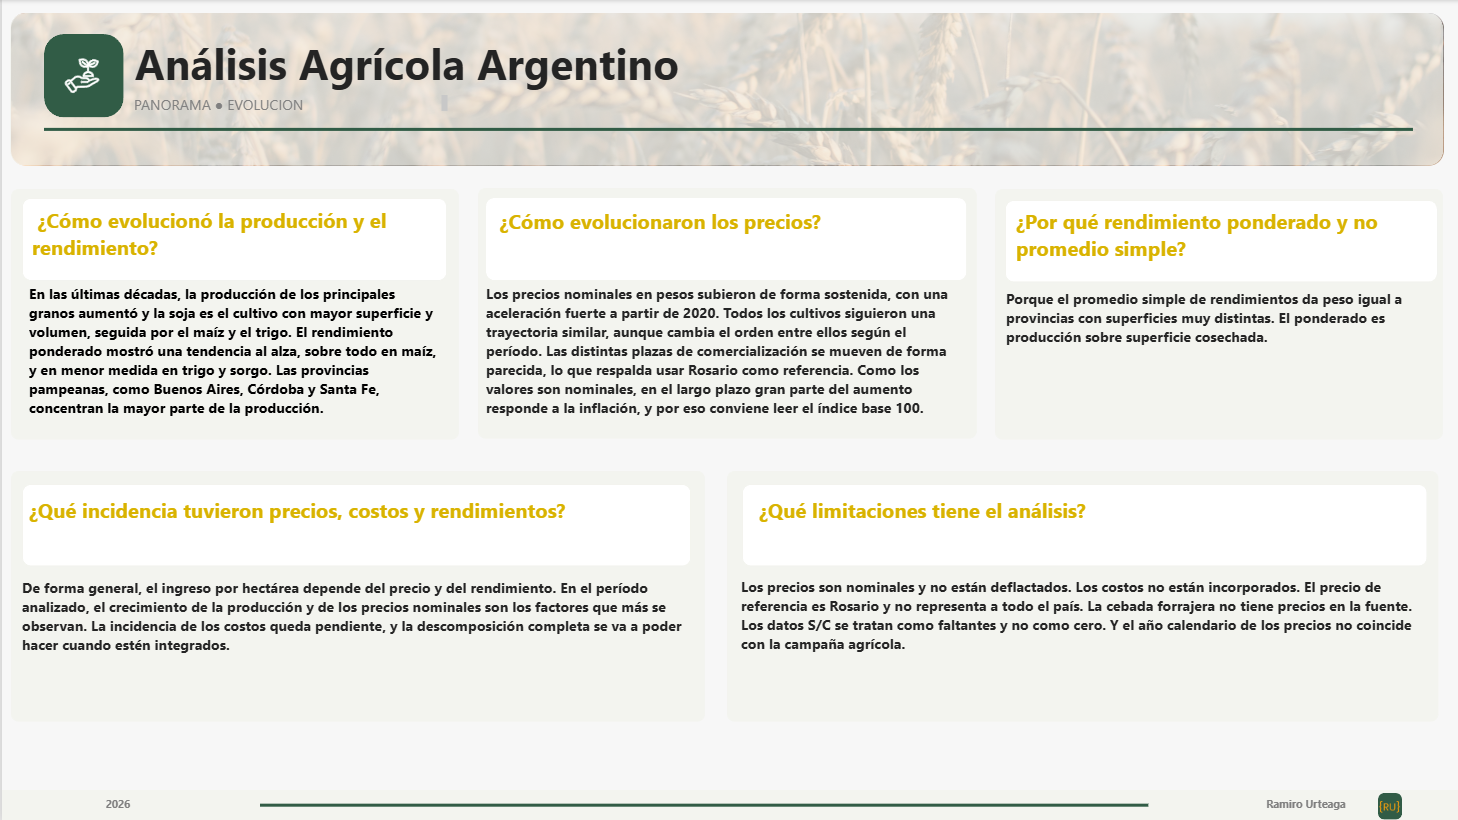

Layout of this report page (visuals, bound fields, positions):
{"tool":"powerbi","page":{"name":"Presentacion","canvas":[1920,1080],"ordinal":2},"visuals":[{"type":"shape","box":[0,1040,1920,40],"z":0},{"type":"shape","box":[340,1040,1170,40],"z":1000},{"type":"textbox","box":[1535.6,1050,363.3,30],"z":2000},{"type":"textbox","box":[0,1050,305.6,30],"z":3000},{"type":"shape","box":[1812.5,1045,31.7,35],"z":4000},{"type":"image","box":[1811.3,1045.3,33.3,33.3],"z":5000},{"type":"image","box":[11.6,17.2,1886.8,201.2],"z":6000},{"type":"shape","box":[11.1,17,1887.8,201.1],"z":7000},{"type":"shape","box":[55,45,105,110],"z":8000},{"type":"image","box":[80.6,73.9,50,52.2],"z":9000},{"type":"textbox","box":[175,45,823.3,80],"z":10000},{"type":"shape","box":[55,155,1803.3,30],"z":11000},{"type":"textbox","box":[174.3,125.7,412.9,22.9],"z":12000},{"type":"shape","box":[11.7,248.3,590,330],"z":13000},{"type":"shape","box":[627.3,248.2,656.7,330],"z":14000},{"type":"shape","box":[1308.3,248.3,590,330],"z":15000},{"type":"shape","box":[11.4,620,914.3,330],"z":16000},{"type":"shape","box":[954.3,620,937.1,330],"z":17000},{"type":"shape","box":[26.4,260.9,560,109.1],"z":18000},{"type":"textbox","box":[39.1,270.9,539.1,92.7],"z":19000},{"type":"shape","box":[637.3,260.9,632.7,108.2],"z":20000},{"type":"shape","box":[1321.4,262.9,570,108.6],"z":21000},{"type":"shape","box":[974.3,637.1,902.9,108.6],"z":22000},{"type":"shape","box":[25.7,637.1,881.4,108.6],"z":23000},{"type":"textbox","box":[647.8,272.2,612.9,92.9],"z":24000},{"type":"textbox","box":[1335,272,542,93],"z":25000},{"type":"textbox","box":[35.7,652.9,812.9,78.6],"z":26000},{"type":"textbox","box":[997.1,652.9,861.4,78.6],"z":27000},{"type":"textbox","box":[35.5,373.6,541.8,204.5],"z":28000},{"type":"textbox","box":[637.3,373.6,623.6,205.5],"z":29000},{"type":"textbox","box":[1321.8,380.9,570,190],"z":30000},{"type":"textbox","box":[26.5,760.9,879.9,177.3],"z":31000},{"type":"textbox","box":[973.6,760.4,885.9,176.9],"z":32000}]}

Visuals, with their boxes in screenshot pixels (x1, y1, x2, y2), scaled from the page's 1920x1080 canvas onto the 1458x820 screenshot:
shape: (0, 790, 1457, 819)
shape: (258, 790, 1147, 819)
textbox: (1166, 797, 1442, 819)
textbox: (0, 797, 232, 819)
shape: (1376, 793, 1400, 819)
image: (1375, 794, 1401, 819)
image: (9, 13, 1442, 166)
shape: (8, 13, 1442, 166)
shape: (42, 34, 122, 118)
image: (61, 56, 99, 96)
textbox: (133, 34, 758, 95)
shape: (42, 118, 1411, 140)
textbox: (132, 95, 446, 113)
shape: (9, 189, 457, 439)
shape: (476, 188, 975, 439)
shape: (993, 189, 1442, 439)
shape: (9, 471, 703, 721)
shape: (725, 471, 1436, 721)
shape: (20, 198, 445, 281)
textbox: (30, 206, 439, 276)
shape: (484, 198, 964, 280)
shape: (1003, 200, 1436, 282)
shape: (740, 484, 1425, 566)
shape: (20, 484, 689, 566)
textbox: (492, 207, 957, 277)
textbox: (1014, 207, 1425, 277)
textbox: (27, 496, 644, 555)
textbox: (757, 496, 1411, 555)
textbox: (27, 284, 438, 439)
textbox: (484, 284, 957, 440)
textbox: (1004, 289, 1437, 433)
textbox: (20, 578, 688, 712)
textbox: (739, 577, 1412, 712)
